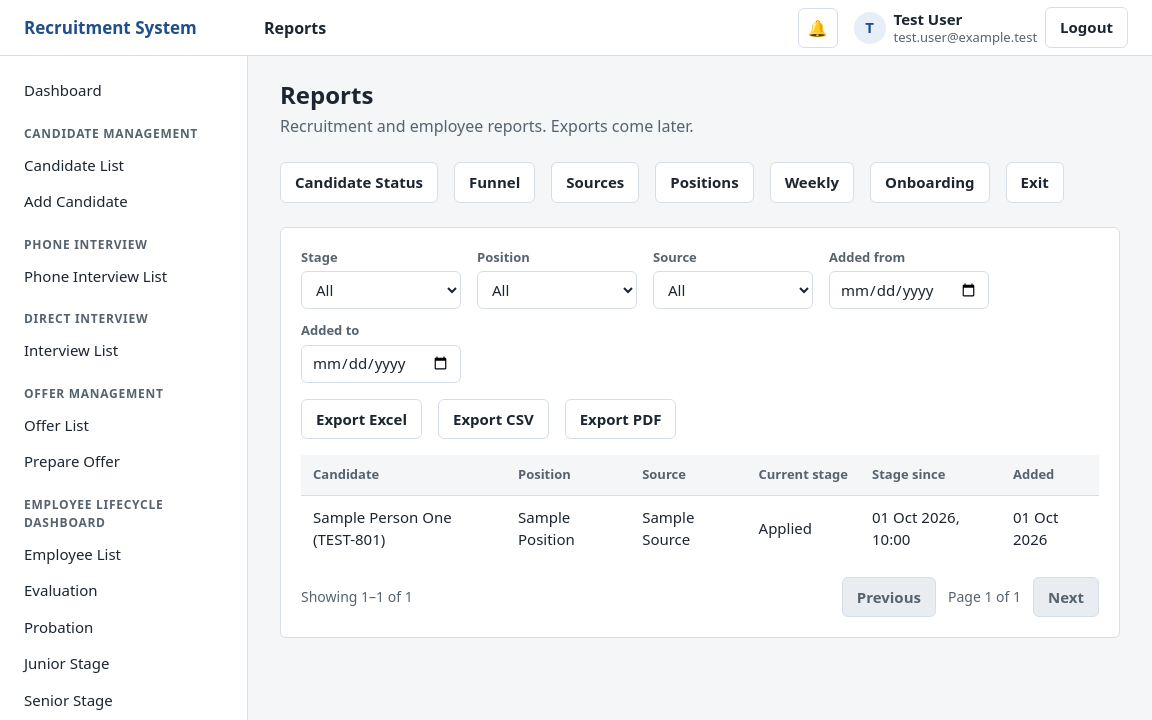
Test: reports page › the weekly tab shows the week figures from the API
Expected: the table named "Candidate status report" is shown, [301, 455, 1099, 560]
Click the tab "Weekly" at coordinates (812, 182), box [770, 162, 854, 202]
(page scrolled)
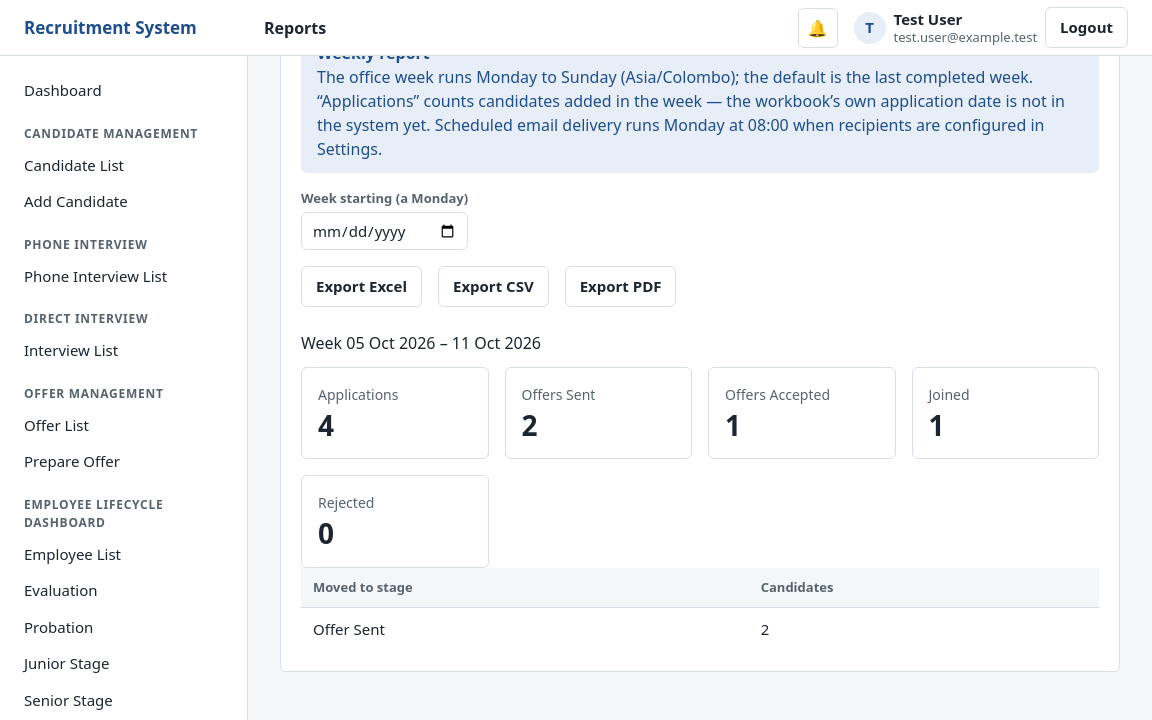
Now the text "Applications" is shown, box [318, 384, 398, 404]
Now the text "Applications" shows "4", box [318, 406, 334, 444]
Now the text "Offers Sent" shows "2", box [522, 406, 538, 444]
